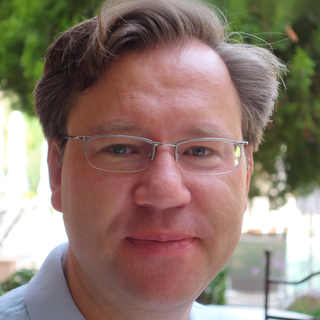eye: (98, 139, 140, 160), (178, 142, 216, 161)
